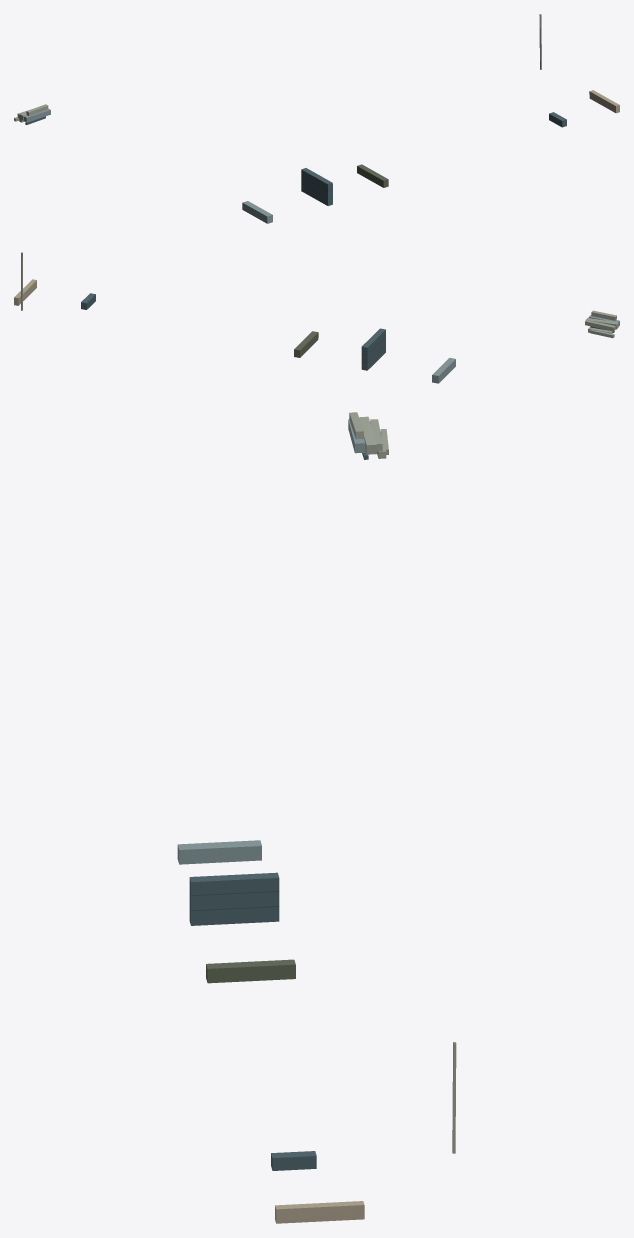
File: terminal-29---121_-20.glb
3 views of the same model, one above another, from view 1: azimuth 30°, elevation 25°; view 2: azimuth 150°, elevation 25°; view 3: azimuth 270°, elevation 25° (orthographic). The views are drawn at different scales.
Visible parts, largest first — view 1: measured-industrial; view 2: measured-industrial; view 3: measured-industrial.
Boxes of the visible parts, x1,y1,x2,y2 form: measured-industrial: (14,14,619,223); measured-industrial: (14,252,619,383); measured-industrial: (177,412,456,1223).
Size of the model in its own units: 240 by 51 by 50.15.
